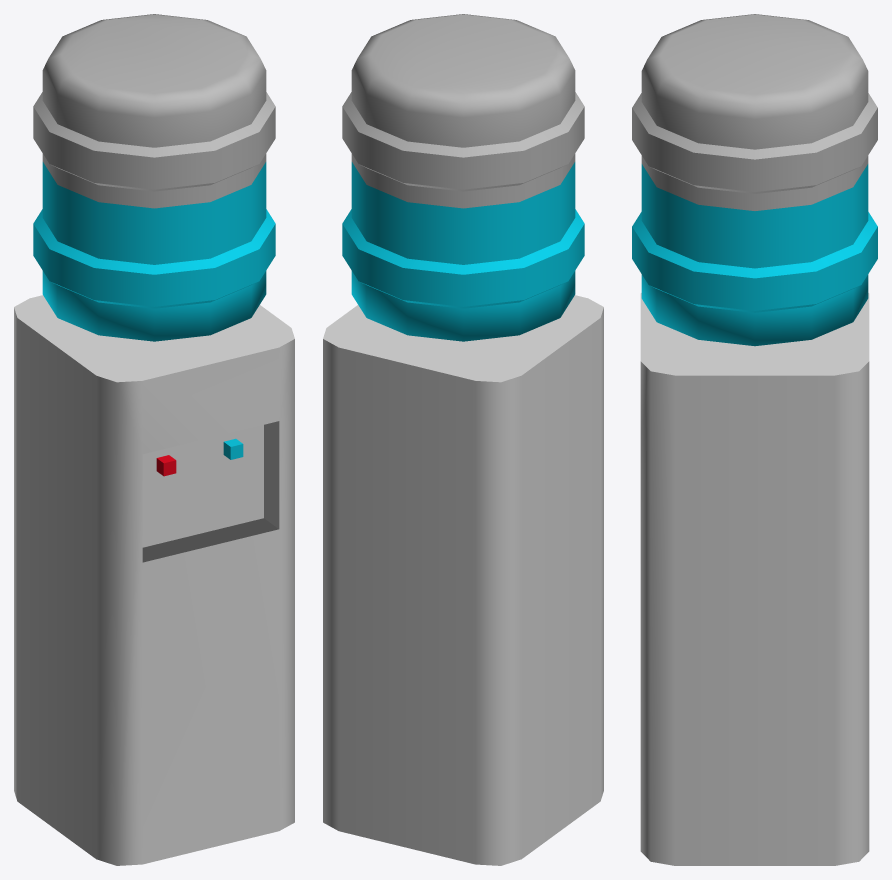
File: cooler.fbx
3 renders of one model, left to right at view 1: azimuth 30°, elevation 25°; view 2: azimuth 150°, elevation 25°; view 3: azimuth 270°, elevation 25°, orthographic.
Visible parts, largest first — view 1: cooler; view 2: cooler; view 3: cooler.
Part boxes in pixels (bbox=[...]): cooler: bbox=[14, 14, 294, 865]; cooler: bbox=[323, 14, 603, 865]; cooler: bbox=[632, 14, 877, 865].
Bounding box in the file's own units: 74.54 × 255 × 74.54.
